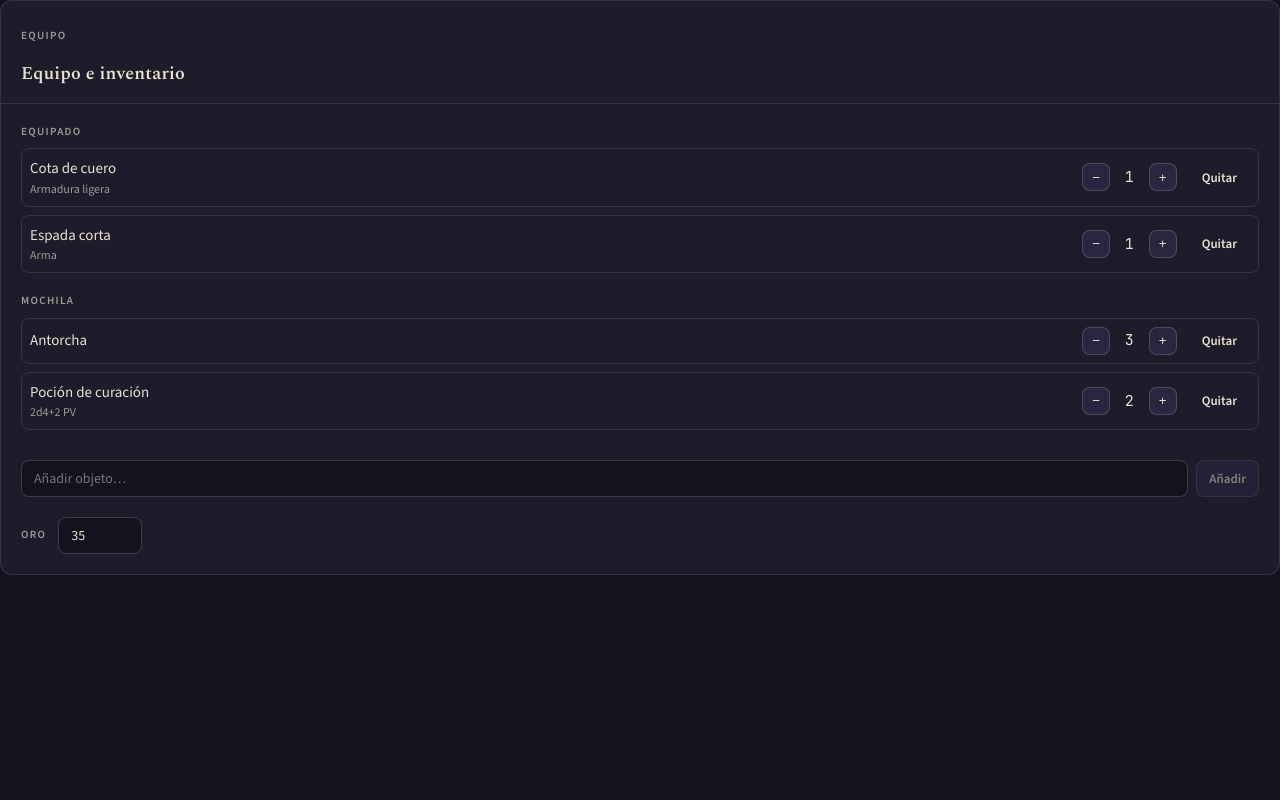
Scenario: InventoryPanel › remove takes the item out of the list
Click the button "Quitar" in the row of "Antorcha".
click(1219, 340)  # box x1=1189 y1=327 x2=1250 y2=354
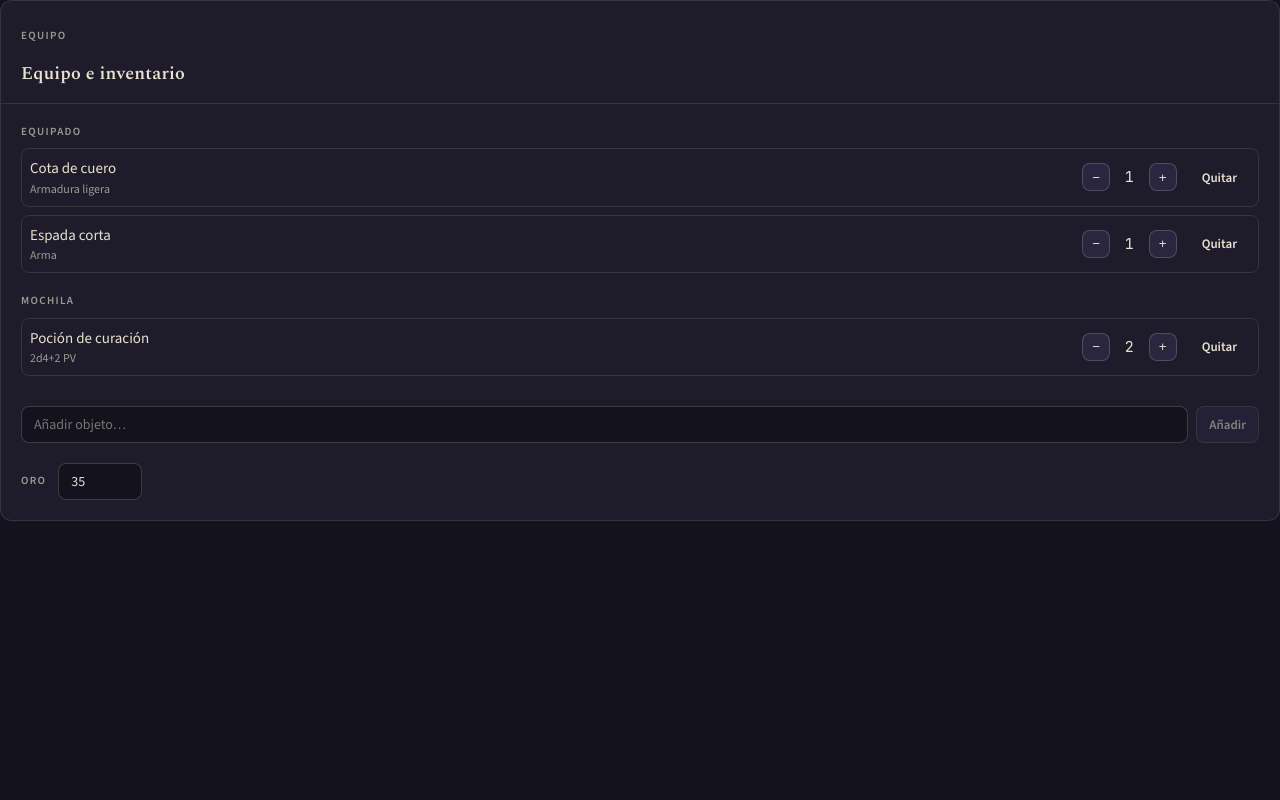
Check: the text "Antorcha" is gone
